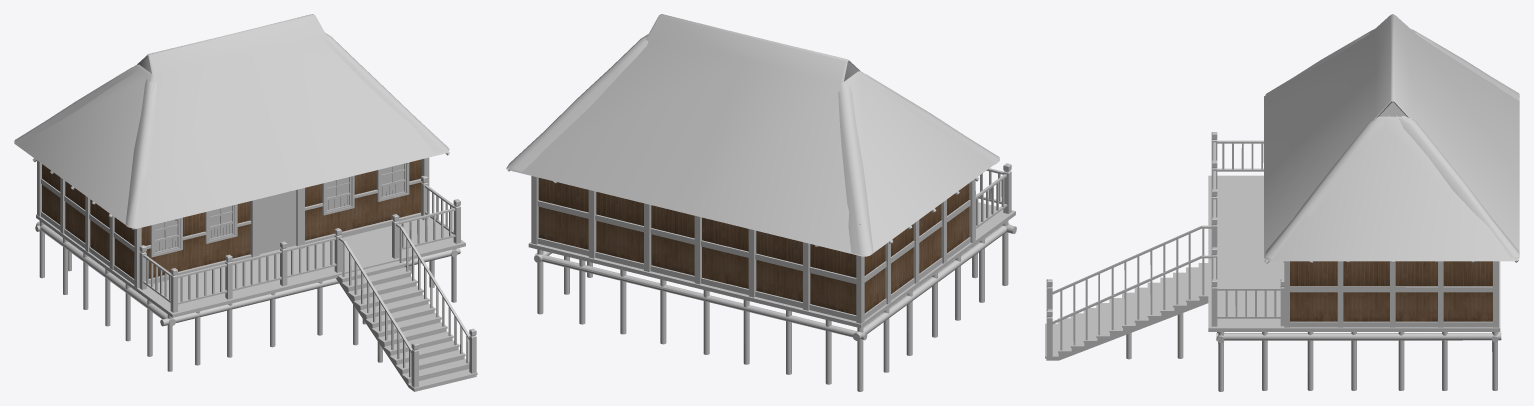
Rendered from 3DSCK_HBZC004.FBX.
The picture shows the model from 3 angles, left to right: view 1: azimuth 30°, elevation 25°; view 2: azimuth 150°, elevation 25°; view 3: azimuth 270°, elevation 25°; orthographic projection. The views are drawn at different scales.
Visible parts, largest first — view 1: 3DSCK_HBZC004; view 2: 3DSCK_HBZC004; view 3: 3DSCK_HBZC004.
Part boxes in pixels (x1,y1,x2,y2): 3DSCK_HBZC004: (14,14,477,391); 3DSCK_HBZC004: (506,14,1016,391); 3DSCK_HBZC004: (1045,14,1519,391).
Size of the model in its own units: 1088 by 788 by 1301.
